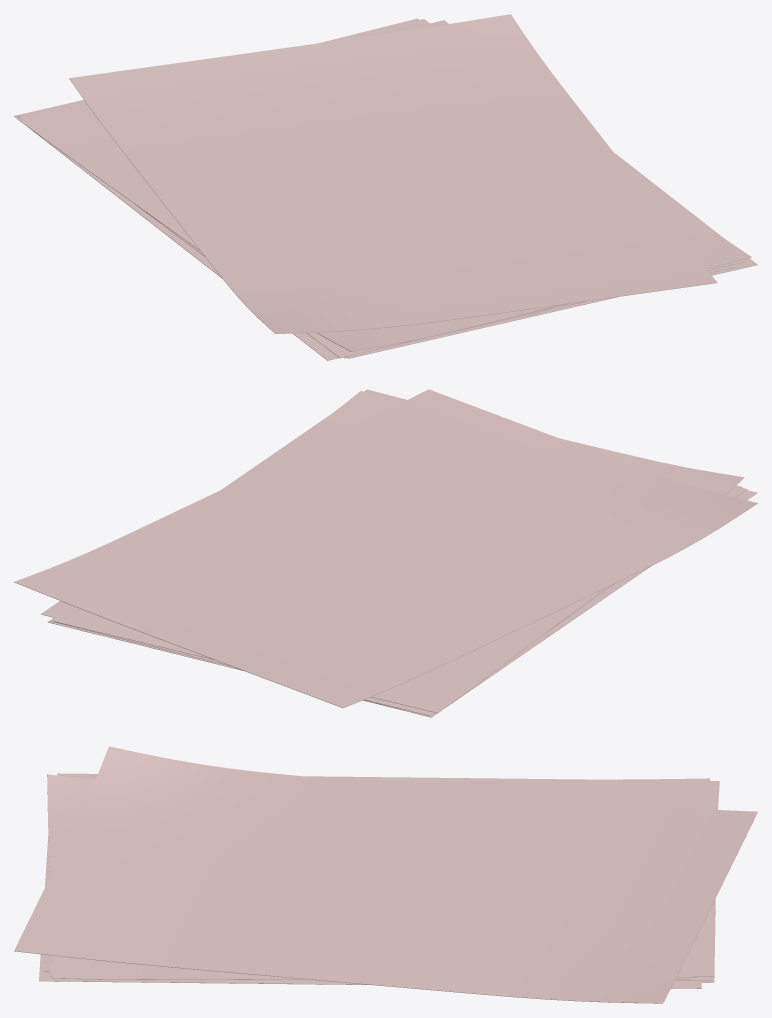
Rendered from kertas.fbx.
The picture shows the model from 3 angles, top to bottom: view 1: azimuth 30°, elevation 25°; view 2: azimuth 150°, elevation 25°; view 3: azimuth 270°, elevation 25°; orthographic projection. The views are drawn at different scales.
Visible parts, largest first — view 1: Plane.017, Plane.016, Plane.018, Plane.015, Plane.019; view 2: Plane.017, Plane.016, Plane.018, Plane.019, Plane.015; view 3: Plane.017, Plane.016, Plane.015, Plane.018, Plane.019.
Part boxes in pixels (x1,y1,x2,y2): Plane.017: (69,14,717,333); Plane.016: (17,18,751,351); Plane.018: (14,107,736,360); Plane.015: (346,20,757,358); Plane.019: (17,19,745,358); Plane.017: (14,389,757,708); Plane.016: (54,391,744,713); Plane.018: (364,395,757,717); Plane.019: (50,486,747,715); Plane.015: (41,389,742,617); Plane.017: (14,746,757,1003); Plane.016: (47,774,714,979); Plane.015: (39,836,701,988); Plane.018: (44,773,719,971); Plane.019: (50,780,717,980).
Size of the model in its own units: 257 by 7.45 by 323.
